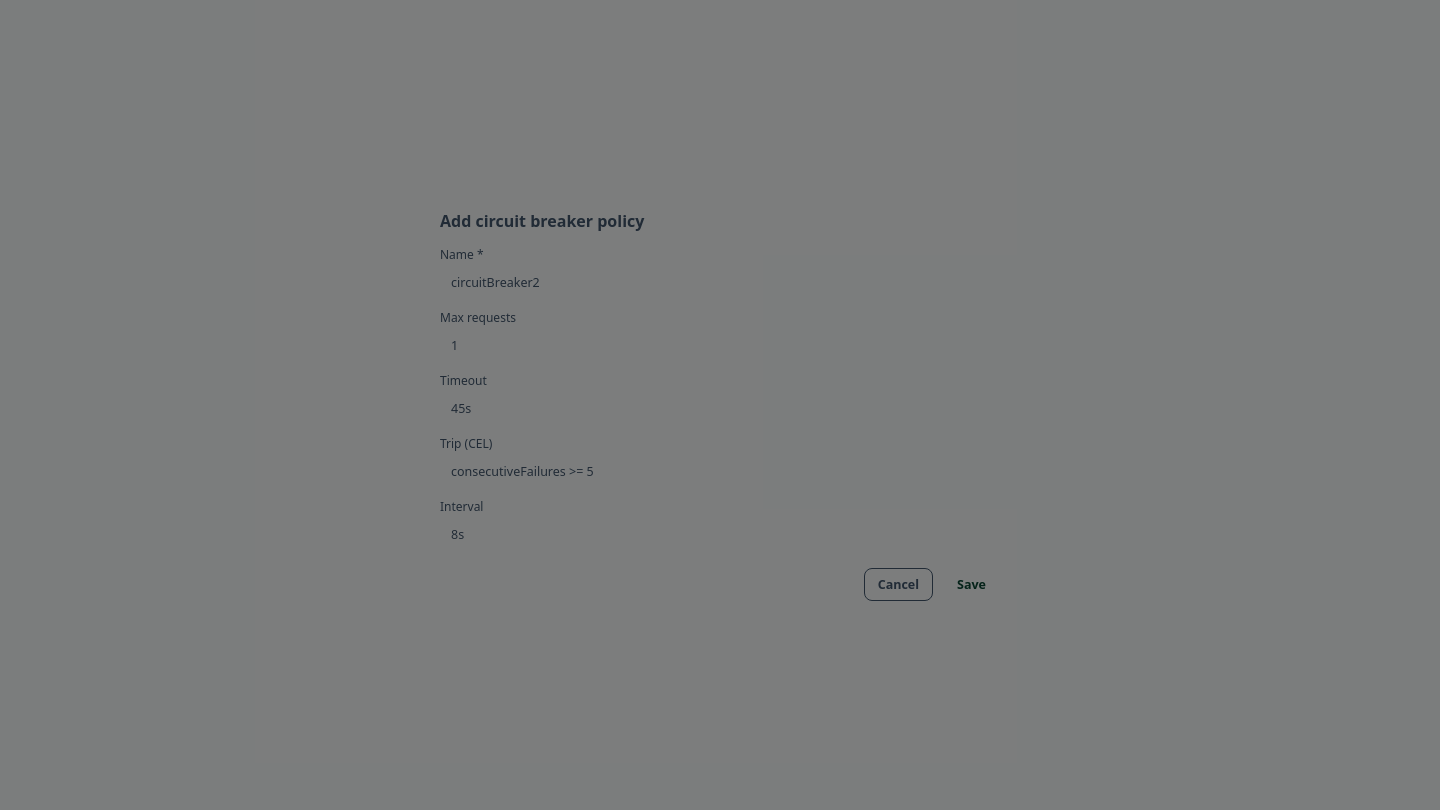
Test case: duplicate name guard › CircuitBreakerDialog blocks saving a duplicate circuit breaker name
Step 1. Replace the text in the field named "circuit breaker name" with "circuitBreaker1" → (731, 282), box 440,266 -> 1022,298
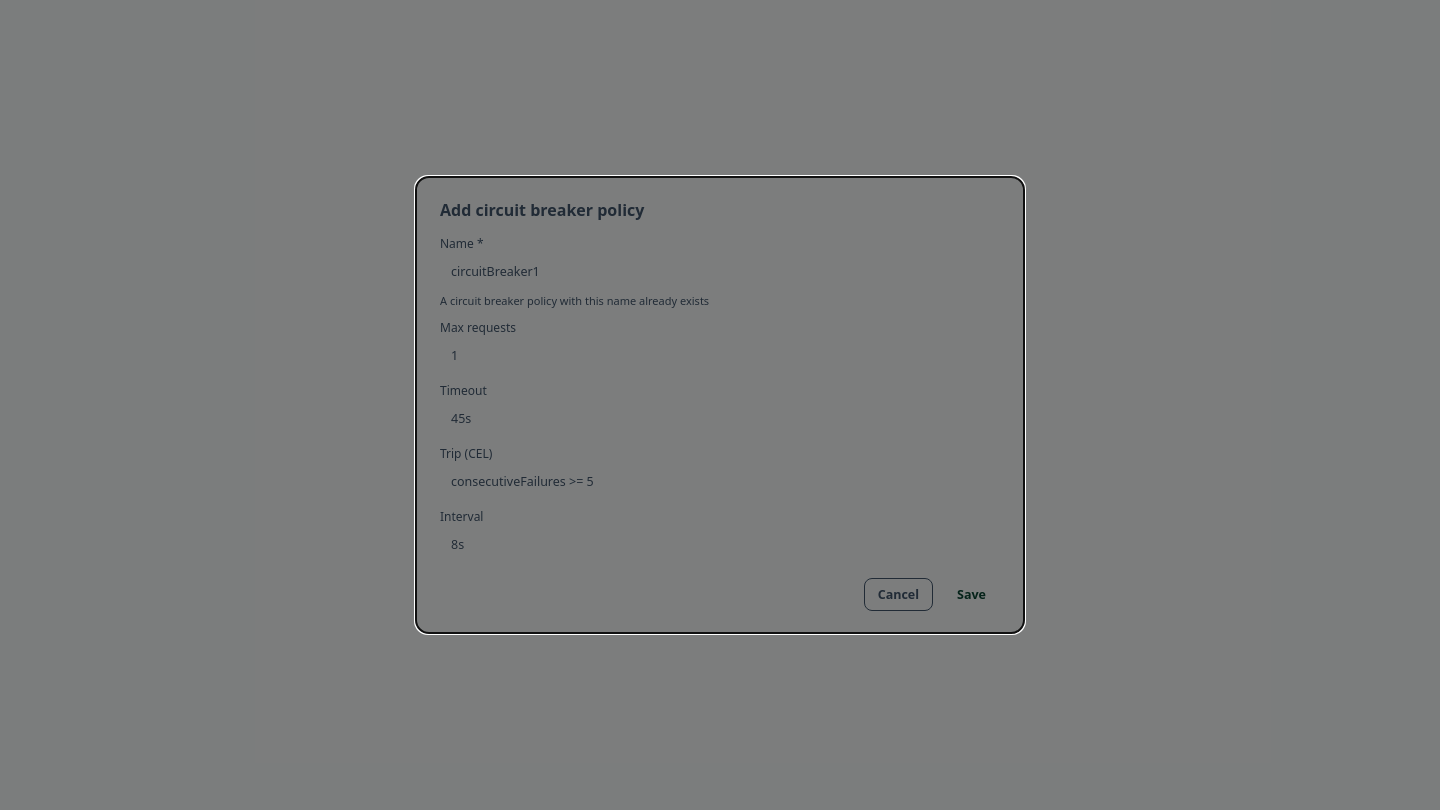
expect the text "A circuit breaker policy with this name already exists" is shown: met, box 440,293 -> 709,308
expect the button "Save" is disabled: met, box 943,578 -> 1000,611
